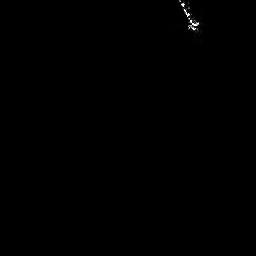ship: (177, 1, 202, 32)
